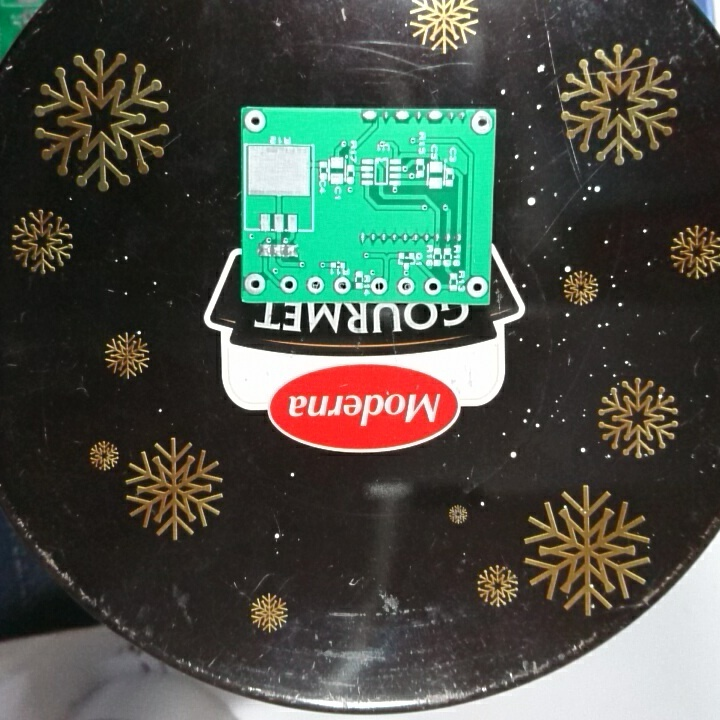F: (242, 106, 269, 135), (242, 272, 268, 298), (463, 273, 489, 299), (469, 109, 493, 135), (277, 273, 299, 295), (332, 273, 352, 297), (369, 275, 390, 297), (422, 275, 442, 298), (305, 275, 325, 297), (395, 275, 416, 295)
P: (358, 107, 379, 123), (426, 108, 446, 124), (392, 109, 412, 124)
